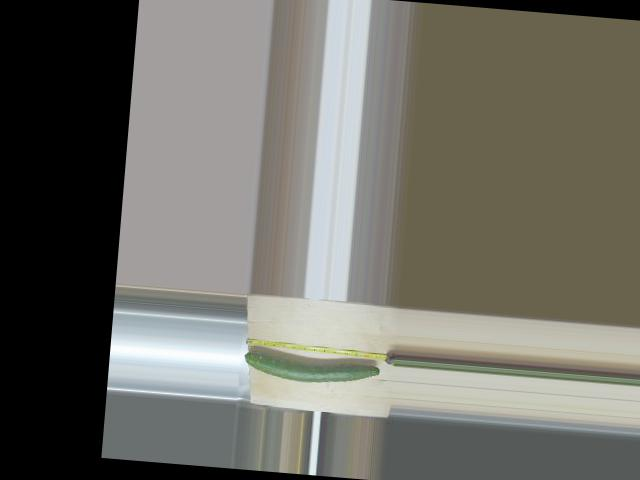cucumber: (243, 349, 380, 387)
